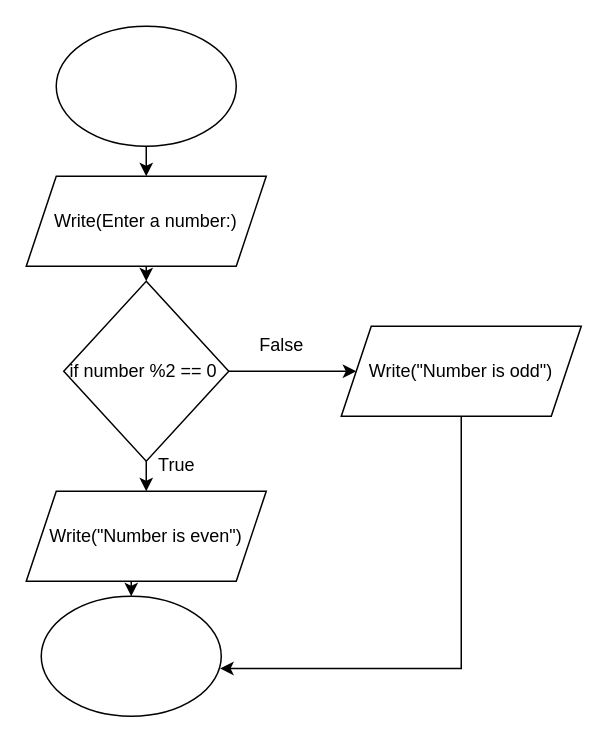
Image size: 608x743. Some labels were removed from this diagram. Each missing label, with the centre of its shape:
End: the point at 130,655
Home: the point at 145,85
